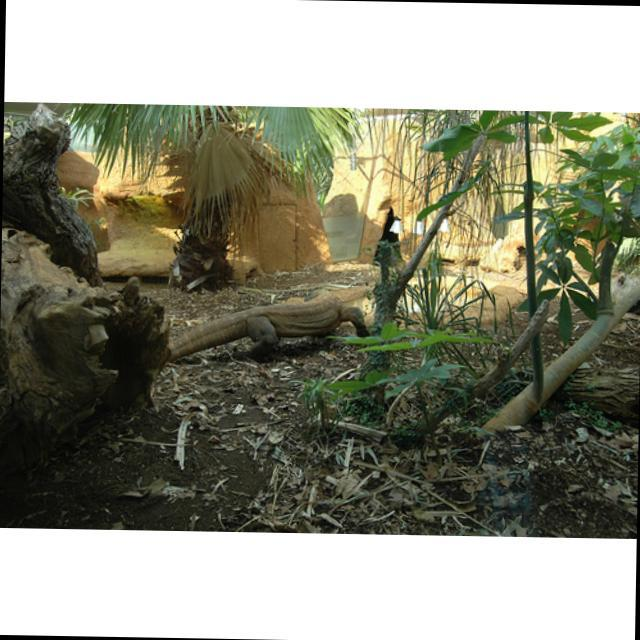KomodoDragon: (159, 278, 372, 363)
